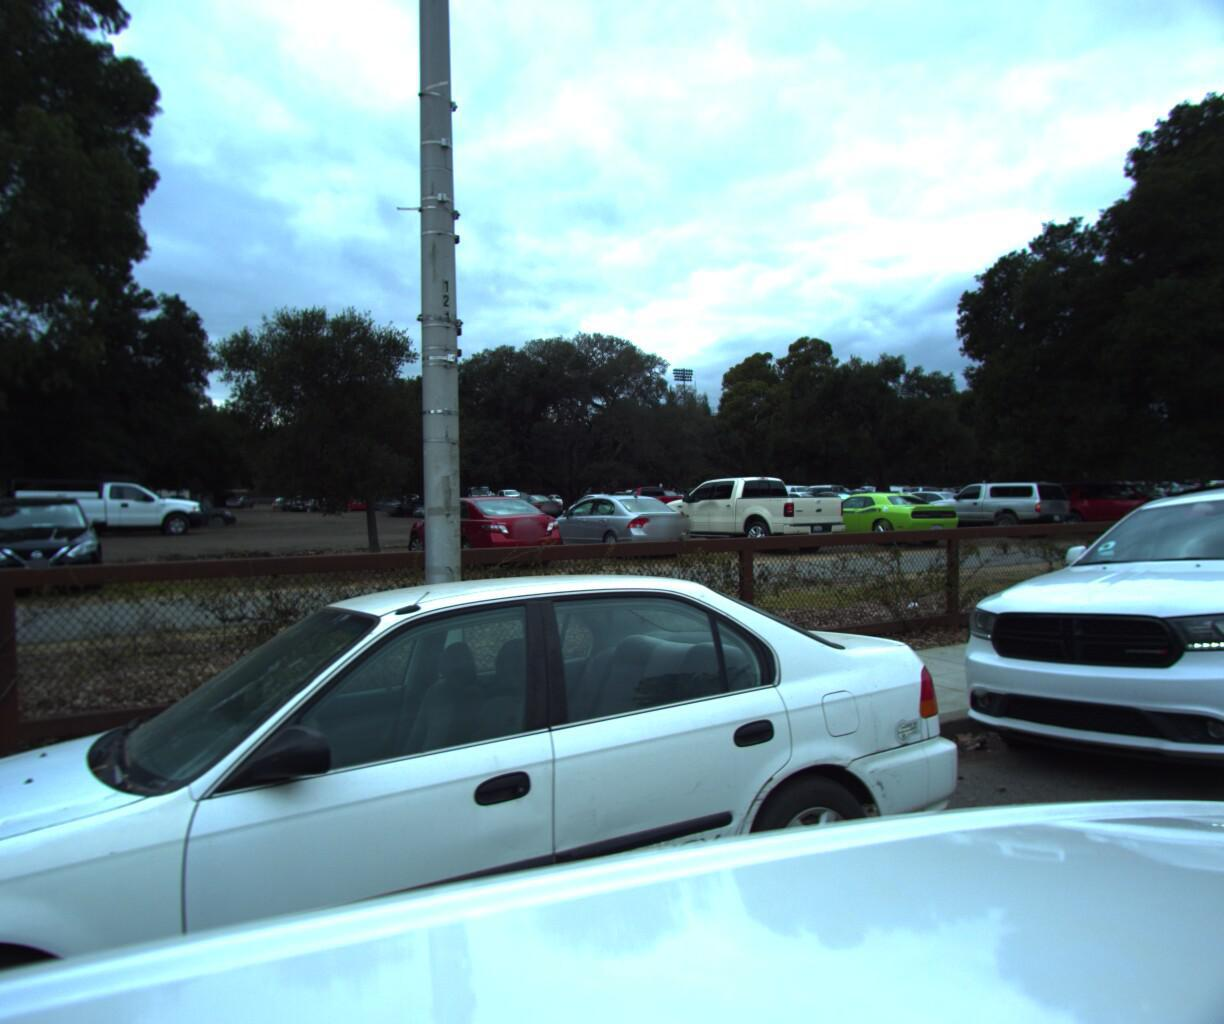car: (0, 535, 995, 1024), (919, 451, 1224, 868), (1122, 474, 1224, 528)
